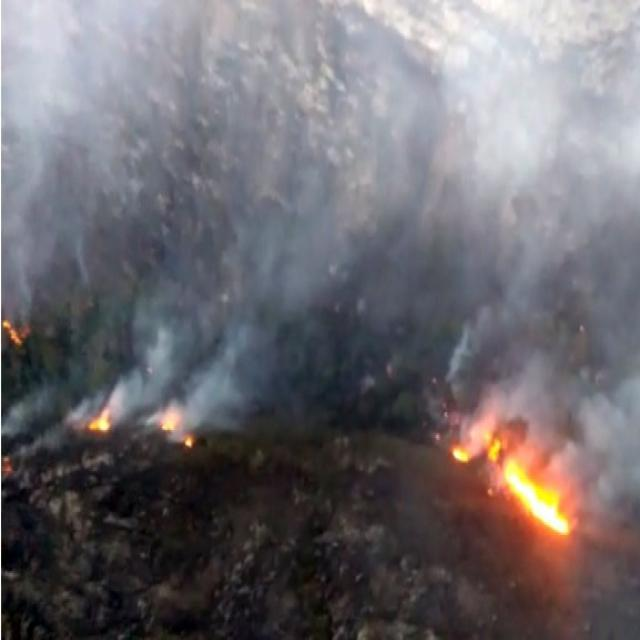Fire: (441, 426, 605, 550), (146, 408, 210, 471), (76, 402, 118, 439), (2, 326, 36, 349), (0, 448, 20, 478)
Smoke: (2, 14, 628, 403), (554, 403, 640, 545)
